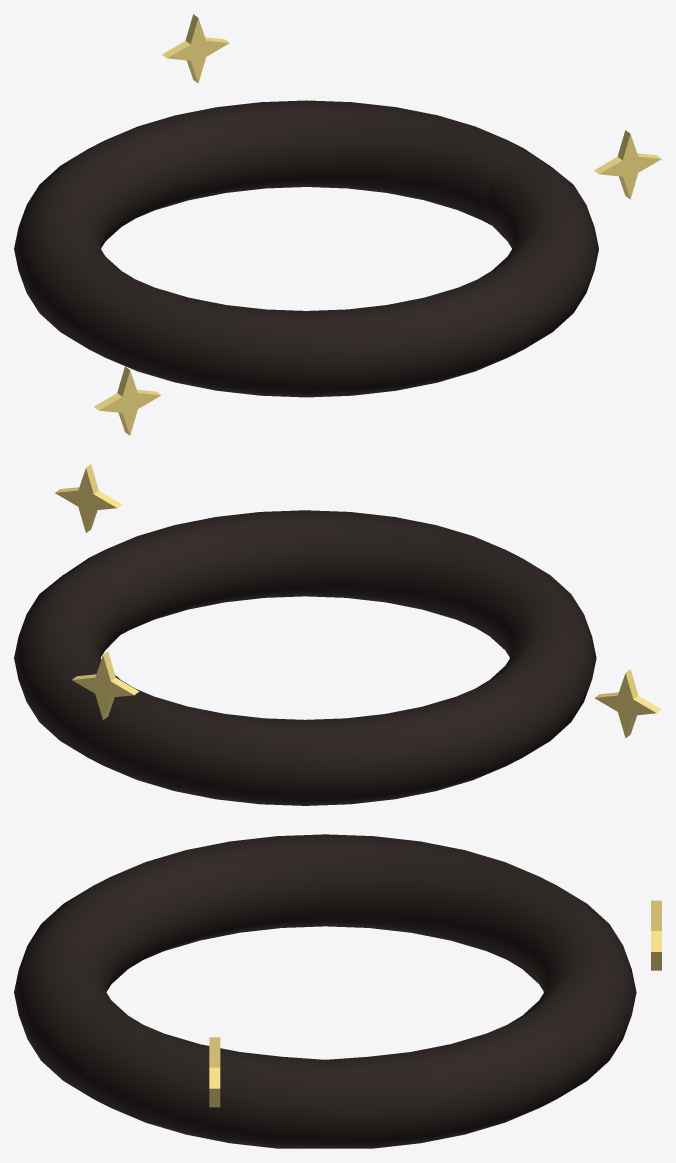
File: hat_halo.fbx
3 renders of one model, top to bottom at view 1: azimuth 30°, elevation 25°; view 2: azimuth 150°, elevation 25°; view 3: azimuth 270°, elevation 25°, orthographic. The views are drawn at different scales.
Parts seen in each view (by area): view 1: hat_halo_Outline, hat_halo_C_FFE88A; view 2: hat_halo_Outline, hat_halo_C_FFE88A; view 3: hat_halo_Outline, hat_halo_C_FFE88A.
Part boxes in pixels (box(x1,y1,x2,y2)): hat_halo_Outline: box(14, 100, 598, 397); hat_halo_C_FFE88A: box(94, 14, 661, 435); hat_halo_Outline: box(14, 510, 596, 805); hat_halo_C_FFE88A: box(55, 464, 661, 738); hat_halo_Outline: box(14, 834, 636, 1148); hat_halo_C_FFE88A: box(209, 900, 661, 1107).
Bounding box in the file's own units: 0.65 × 0.19 × 0.587.
